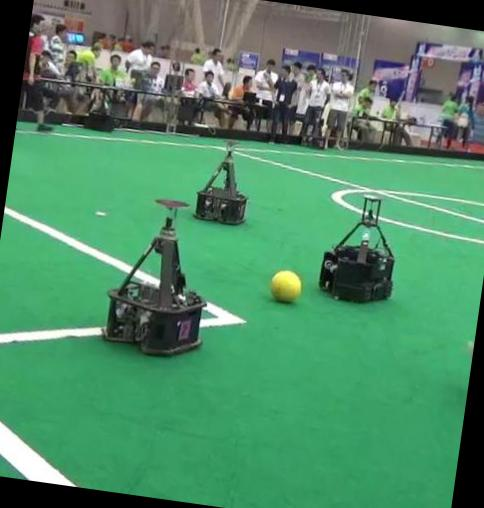ball: (269, 270, 301, 302)
person: (23, 15, 52, 132), (323, 70, 354, 148)
robot: (103, 199, 205, 355), (319, 195, 393, 301), (193, 142, 246, 224), (85, 89, 115, 132)
